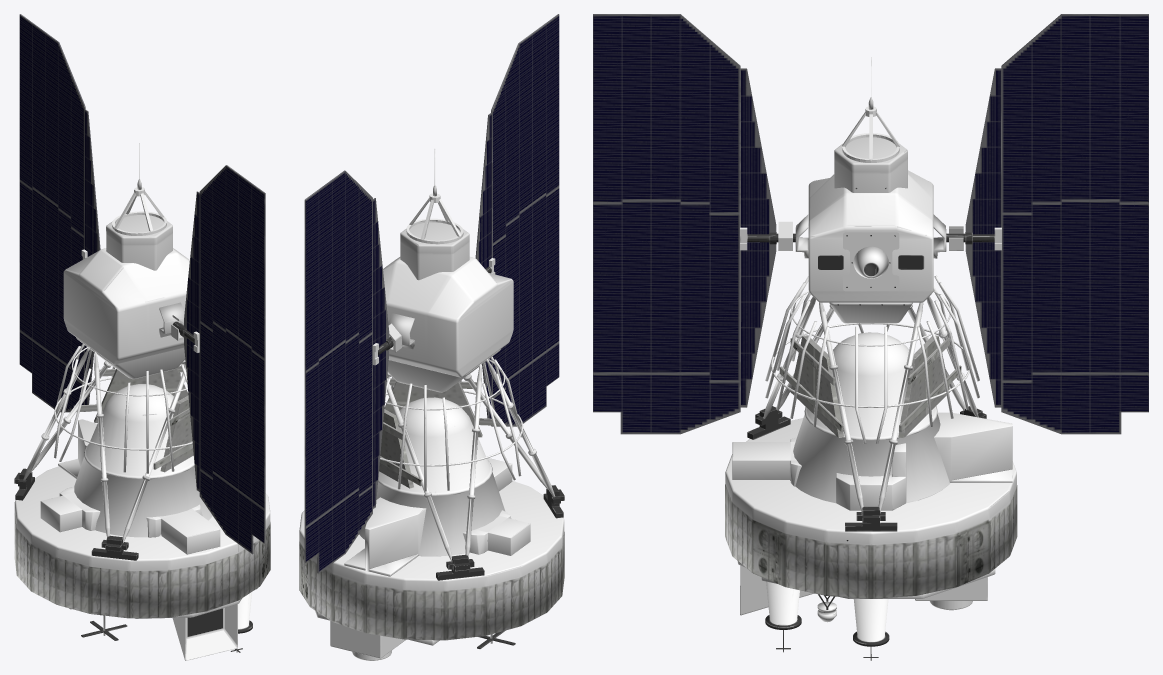
Rendered from Landsat_1_2_3.glb.
3 renders of one model, left to right at view 1: azimuth 30°, elevation 25°; view 2: azimuth 150°, elevation 25°; view 3: azimuth 270°, elevation 25°, orthographic. The views are drawn at different scales.
Visible parts, largest first — view 1: L1_Baked; view 2: L1_Baked; view 3: L1_Baked.
Part boxes in pixels (x1,y1,x2,y2): L1_Baked: [14, 14, 270, 660]; L1_Baked: [299, 14, 564, 660]; L1_Baked: [593, 14, 1148, 660].
Bounding box in the file's own units: 2.02 × 4.58 × 3.81.
Materials: 1 (1 with a texture image).
